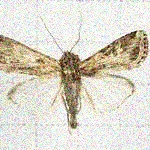Spodoptera litura: (1, 8, 150, 136)
